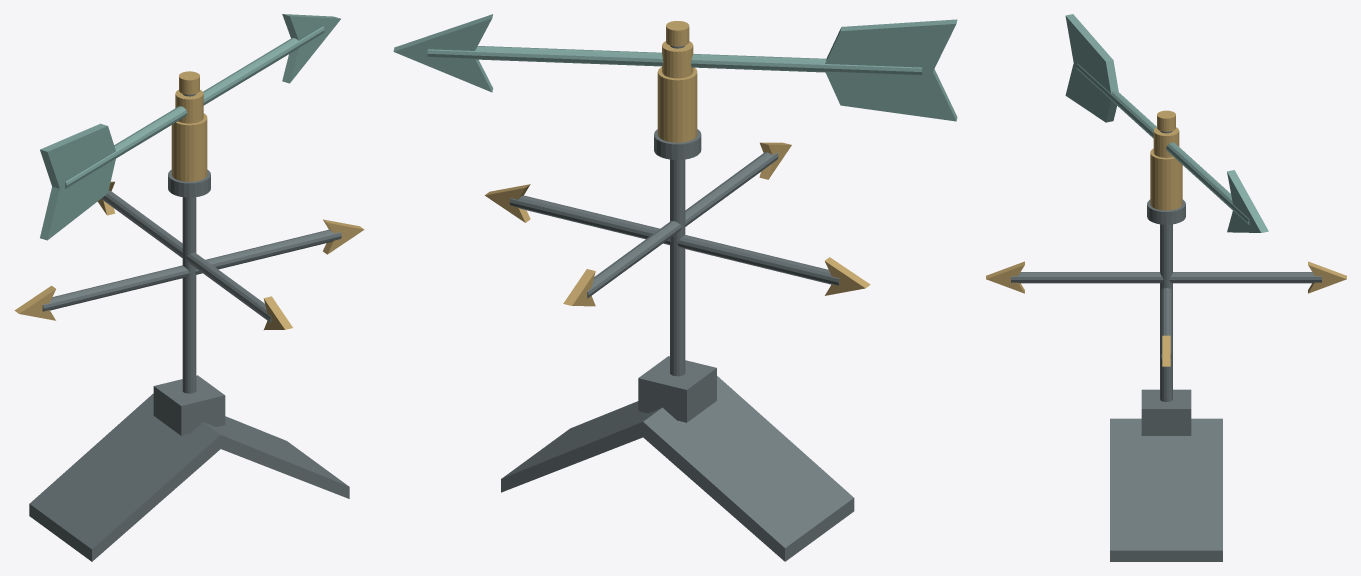
3 views of the same model, side by side, from view 1: azimuth 30°, elevation 25°; view 2: azimuth 150°, elevation 25°; view 3: azimuth 270°, elevation 25° (orthographic). The views are drawn at different scales.
Parts seen in each view (by area): view 1: WholeFoldedRoofRidgeSaddle, WholeBroadRearTailVane, WholeFixedDirectionCross_0, WholeCentralMastShoe, WholeArrowCarrier, WholeVerticalFixedSpindle, WholeFixedDirectionCross_1, WholeUpperBearingSleeve, WholeBroadArrowHead, WholeLowerBearingShoulder, WholeUpperArrowCarrierBoss, WholeFixedDirectionTip_2 (+3 smaller); view 2: WholeFoldedRoofRidgeSaddle, WholeBroadRearTailVane, WholeArrowCarrier, WholeFixedDirectionCross_0, WholeCentralMastShoe, WholeVerticalFixedSpindle, WholeBroadArrowHead, WholeFixedDirectionCross_1, WholeUpperBearingSleeve, WholeUpperArrowCarrierBoss, WholeLowerBearingShoulder, WholeFixedDirectionTip_2 (+2 smaller); view 3: WholeFoldedRoofRidgeSaddle, WholeFixedDirectionCross_1, WholeBroadRearTailVane, WholeCentralMastShoe, WholeArrowCarrier, WholeUpperBearingSleeve, WholeVerticalFixedSpindle, WholeBroadArrowHead, WholeLowerBearingShoulder, WholeFixedDirectionCross_0, WholeFixedDirectionTip_1, WholeFixedDirectionTip_3 (+1 smaller).
Part boxes in pixels (x1,y1,x2,y2): WholeFoldedRoofRidgeSaddle: (29,393,349,561); WholeBroadRearTailVane: (40,123,115,240); WholeFixedDirectionCross_0: (42,229,341,311); WholeCentralMastShoe: (153,375,225,435); WholeArrowCarrier: (65,26,324,188); WholeVerticalFixedSpindle: (182,94,196,393); WholeFixedDirectionCross_1: (101,190,271,322); WholeUpperBearingSleeve: (171,113,207,181); WholeBroadArrowHead: (282,14,340,83); WholeLowerBearingShoulder: (168,169,210,197); WholeUpperArrowCarrierBoss: (175,90,203,123); WholeFixedDirectionTip_2: (14,285,55,320); WholeFoldedRoofRidgeSaddle: (501,376,854,561); WholeBroadRearTailVane: (825,19,957,121); WholeArrowCarrier: (427,46,922,75); WholeFixedDirectionCross_0: (509,195,839,285); WholeCentralMastShoe: (638,356,716,422); WholeVerticalFixedSpindle: (670,45,685,376); WholeBroadArrowHead: (393,14,493,92); WholeFixedDirectionCross_1: (587,152,778,298); WholeUpperBearingSleeve: (657,67,697,142); WholeUpperArrowCarrierBoss: (662,41,693,78); WholeLowerBearingShoulder: (654,129,701,159); WholeFixedDirectionTip_2: (825,257,870,295); WholeFoldedRoofRidgeSaddle: (1110,418,1222,561); WholeFixedDirectionCross_1: (1011,272,1321,283); WholeBroadRearTailVane: (1065,14,1118,122); WholeCentralMastShoe: (1141,389,1191,435); WholeArrowCarrier: (1076,63,1249,224); WholeUpperBearingSleeve: (1150,148,1182,210); WholeVerticalFixedSpindle: (1160,131,1172,401); WholeBroadArrowHead: (1227,170,1268,232); WholeLowerBearingShoulder: (1147,199,1185,224); WholeFixedDirectionCross_0: (1161,288,1171,358); WholeFixedDirectionTip_1: (1308,261,1346,293); WholeFixedDirectionTip_3: (986,261,1024,293).
Size of the model in its own units: 1.2 by 1.25 by 1.02.
